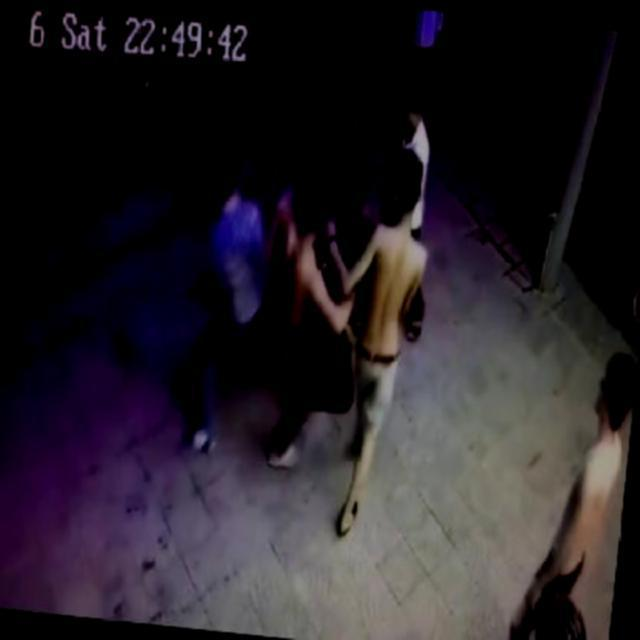fight: (232, 98, 446, 491)
